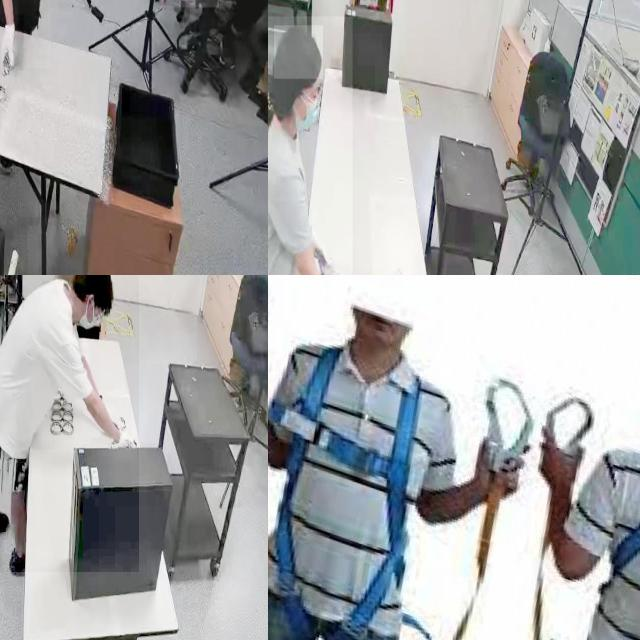Harness: (280, 336, 426, 640), (602, 433, 640, 640)
face_mask: (286, 80, 326, 133), (72, 296, 106, 338)
hand_glove: (0, 15, 24, 76), (112, 421, 138, 463)
head_nohelmet: (274, 26, 324, 80), (85, 275, 110, 295)
person: (0, 275, 139, 572), (268, 16, 352, 275)
shoes: (0, 502, 9, 541)
